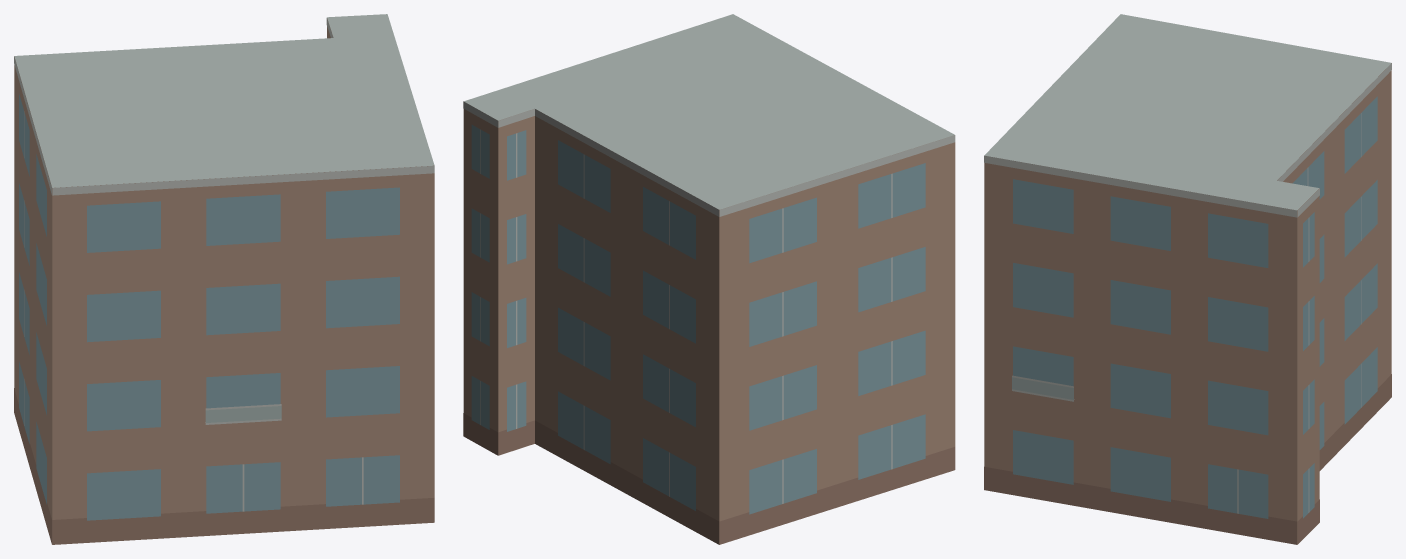
Rendered from survey-upis-32900399.glb.
The picture shows the model from 3 angles, left to right: view 1: azimuth 30°, elevation 25°; view 2: azimuth 150°, elevation 25°; view 3: azimuth 270°, elevation 25°; orthographic projection. The views are drawn at different scales.
Parts seen in each view (by area): view 1: survey-upis-32900399.tmp; view 2: survey-upis-32900399.tmp; view 3: survey-upis-32900399.tmp.
Part boxes in pixels (bbox=[...]): survey-upis-32900399.tmp: bbox=[14, 14, 434, 544]; survey-upis-32900399.tmp: bbox=[463, 14, 955, 544]; survey-upis-32900399.tmp: bbox=[984, 14, 1391, 544].
Size of the model in its own units: 14.31 by 11.35 by 12.55.
